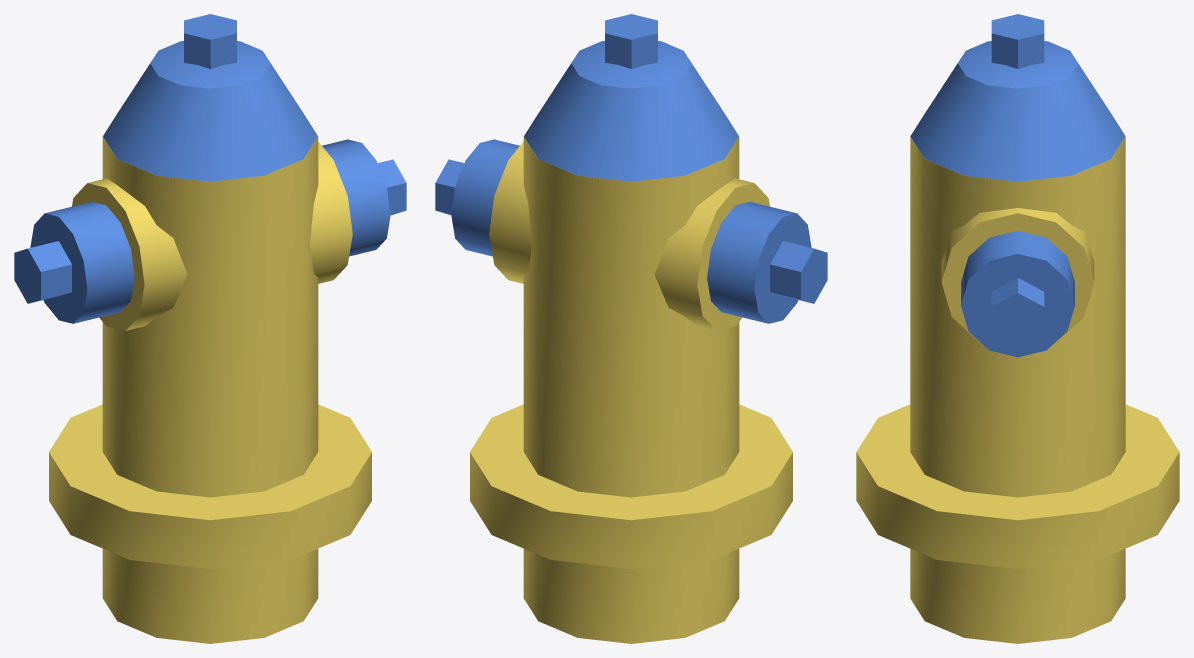
File: fire-hydrant.glb
3 views of the same model, side by side, from view 1: azimuth 30°, elevation 25°; view 2: azimuth 150°, elevation 25°; view 3: azimuth 270°, elevation 25° (orthographic).
Parts seen in each view (by area): view 1: Cylinder.2, Cylinder.1, Cylinder.5, Cylinder, Cylinder.3, Cylinder.7, Cylinder.4, Cylinder.6; view 2: Cylinder.2, Cylinder.1, Cylinder.5, Cylinder, Cylinder.3, Cylinder.7, Cylinder.4, Cylinder.6; view 3: Cylinder.2, Cylinder.1, Cylinder.5, Cylinder, Cylinder.3, Cylinder.7, Cylinder.4, Cylinder.6.
Boxes of the visible parts, <box> form: Cylinder.2: <box>102,114,318,497</box>; Cylinder.1: <box>49,404,371,568</box>; Cylinder.5: <box>103,41,317,181</box>; Cylinder: <box>102,549,318,643</box>; Cylinder.3: <box>30,139,390,323</box>; Cylinder.7: <box>72,142,352,330</box>; Cylinder.4: <box>14,159,406,303</box>; Cylinder.6: <box>184,14,236,68</box>; Cylinder.2: <box>523,114,739,497</box>; Cylinder.1: <box>470,404,792,568</box>; Cylinder.5: <box>524,41,738,181</box>; Cylinder: <box>523,549,739,643</box>; Cylinder.3: <box>451,139,811,323</box>; Cylinder.7: <box>489,142,769,330</box>; Cylinder.4: <box>435,159,827,303</box>; Cylinder.6: <box>605,14,657,68</box>; Cylinder.2: <box>910,129,1125,497</box>; Cylinder.1: <box>856,404,1179,568</box>; Cylinder.5: <box>910,41,1125,181</box>; Cylinder: <box>910,549,1125,643</box>; Cylinder.3: <box>961,230,1074,357</box>; Cylinder.7: <box>941,208,1094,342</box>; Cylinder.4: <box>991,278,1044,348</box>; Cylinder.6: <box>991,14,1044,68</box>.
Size of the model in its own units: 0.7838 by 1.17 by 0.6.
